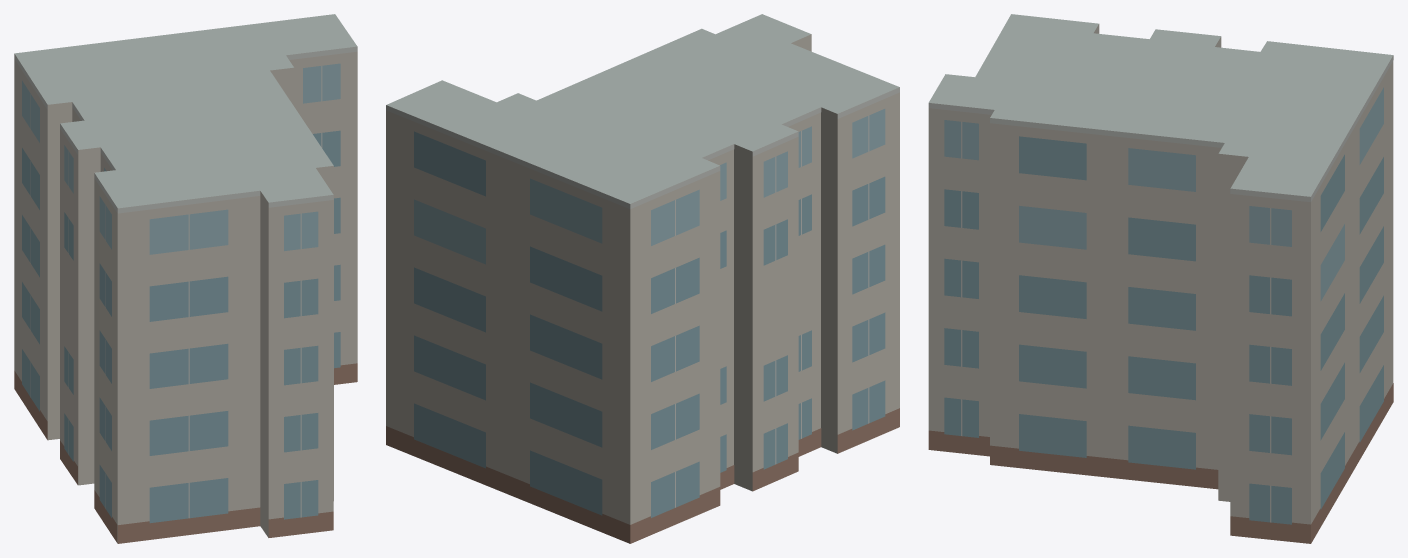
File: survey-upis-32535436.glb
3 renders of one model, left to right at view 1: azimuth 30°, elevation 25°; view 2: azimuth 150°, elevation 25°; view 3: azimuth 270°, elevation 25°, orthographic. The views are drawn at different scales.
Visible parts, largest first — view 1: survey-upis-32535436.tmp; view 2: survey-upis-32535436.tmp; view 3: survey-upis-32535436.tmp.
Part boxes in pixels (x1,y1,x2,y2): survey-upis-32535436.tmp: [14, 14, 357, 543]; survey-upis-32535436.tmp: [386, 14, 899, 543]; survey-upis-32535436.tmp: [928, 14, 1393, 543].
Size of the model in its own units: 17.98 by 15.9 by 19.31.
